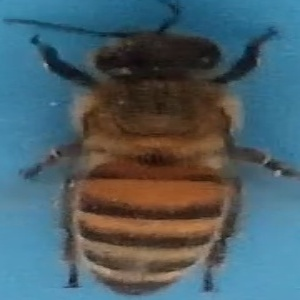bee: (37, 16, 295, 294)
